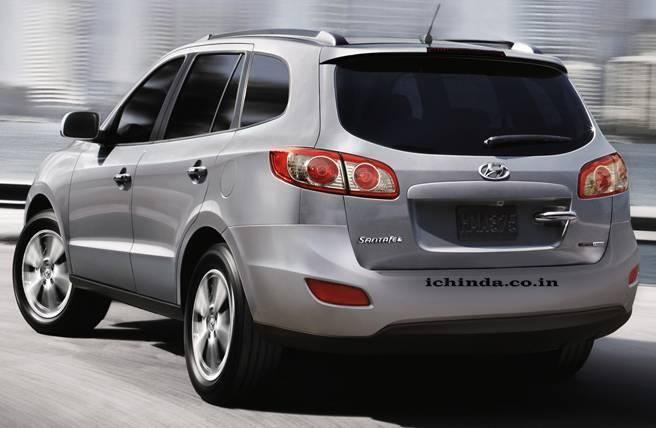car: (5, 27, 656, 406)
